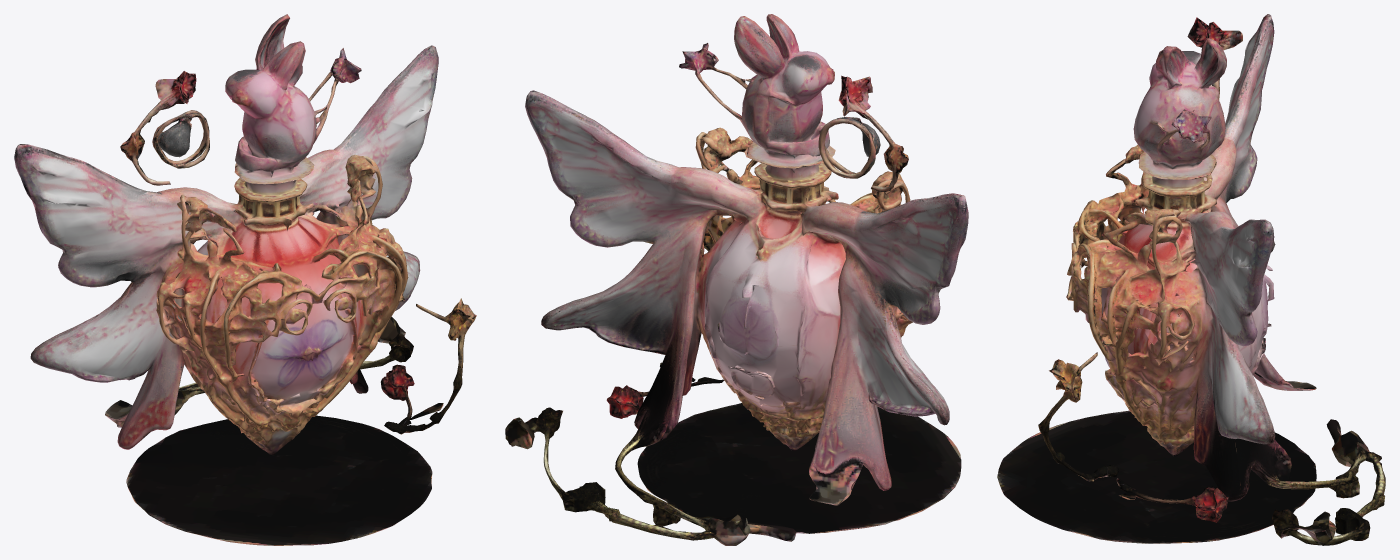
File: perfume.glb
3 renders of one model, left to right at view 1: azimuth 30°, elevation 25°; view 2: azimuth 150°, elevation 25°; view 3: azimuth 270°, elevation 25°, orthographic. The views are drawn at different scales.
Parts seen in each view (by area): view 1: world; view 2: world; view 3: world.
Part boxes in pixels (x1,y1,x2,y2): world: (14, 14, 476, 545); world: (505, 14, 968, 545); world: (997, 14, 1385, 545).
Bounding box in the file's own units: 1 × 1 × 0.7755.
Materials: 1 (1 with a texture image).
